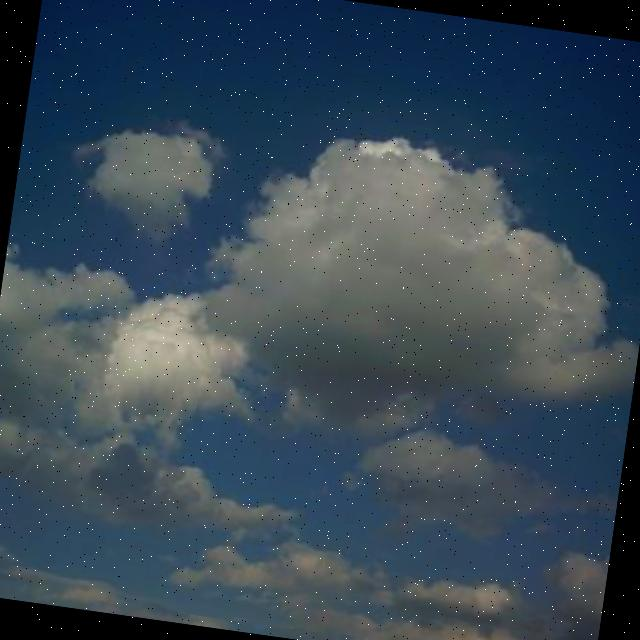Cu: (1, 50, 640, 639)
